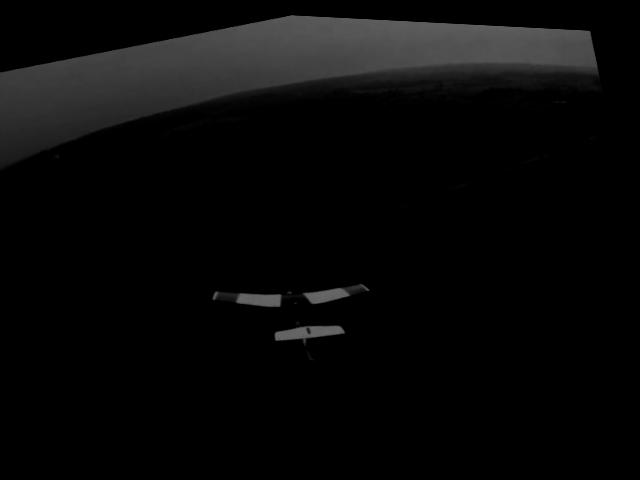hedef: (210, 246, 394, 383)
